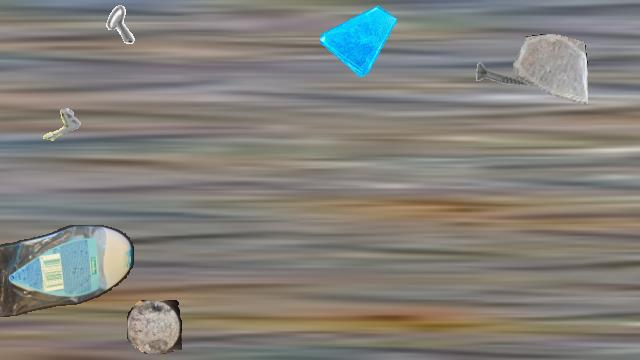glass: (320, 1, 396, 77), (513, 34, 587, 108)
metal: (74, 1, 136, 63), (474, 43, 536, 105), (25, 99, 85, 159)
plastic: (0, 225, 134, 317)
wood: (127, 300, 181, 354)
